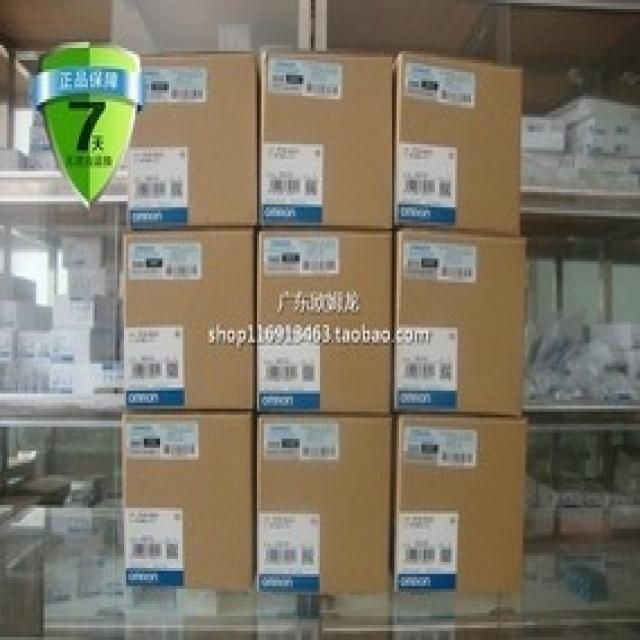box: (390, 228, 527, 418), (255, 228, 392, 415), (392, 51, 523, 237), (259, 45, 392, 228), (392, 415, 527, 595), (255, 415, 392, 592), (124, 228, 255, 412), (122, 412, 255, 592), (124, 54, 259, 228)
